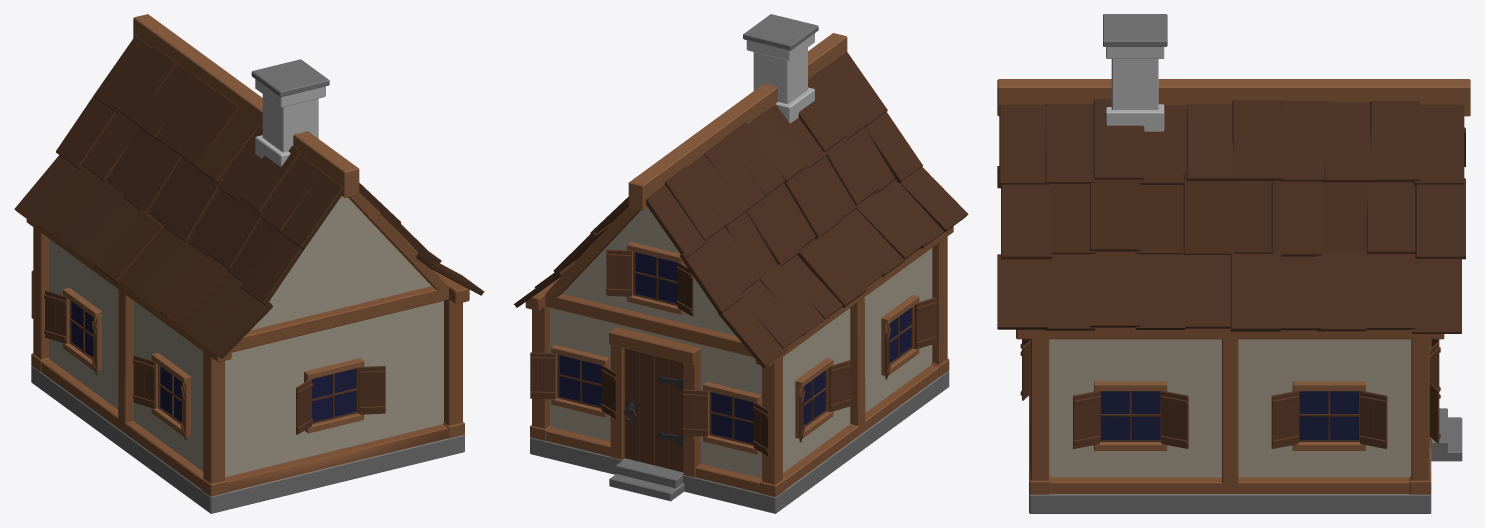
The model's file is CottageSmall.fbx.
The picture shows the model from 3 angles, left to right: view 1: azimuth 30°, elevation 25°; view 2: azimuth 150°, elevation 25°; view 3: azimuth 270°, elevation 25°; orthographic projection. The views are drawn at different scales.
Visible parts, largest first — view 1: CottageSmall; view 2: CottageSmall; view 3: CottageSmall.
Boxes of the visible parts, bbox=[...] form: CottageSmall: bbox=[14, 14, 484, 513]; CottageSmall: bbox=[513, 14, 968, 513]; CottageSmall: bbox=[997, 14, 1470, 513].
Size of the model in its own units: 475 by 630 by 647.
